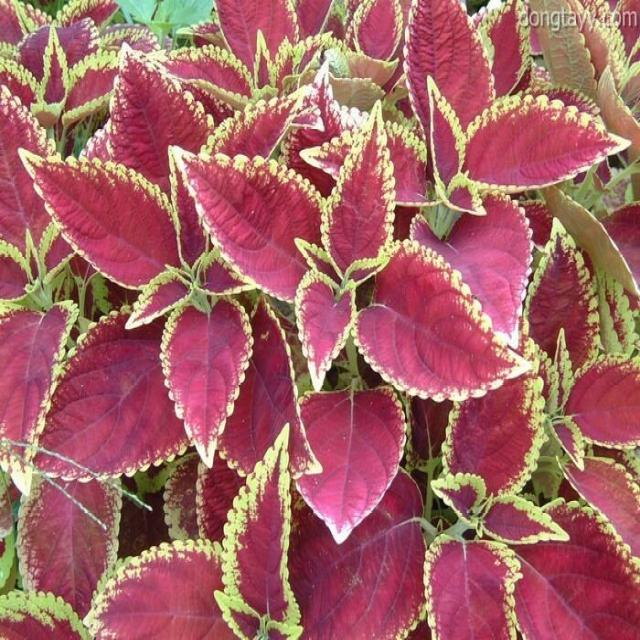Coleus: (0, 38, 639, 639)
